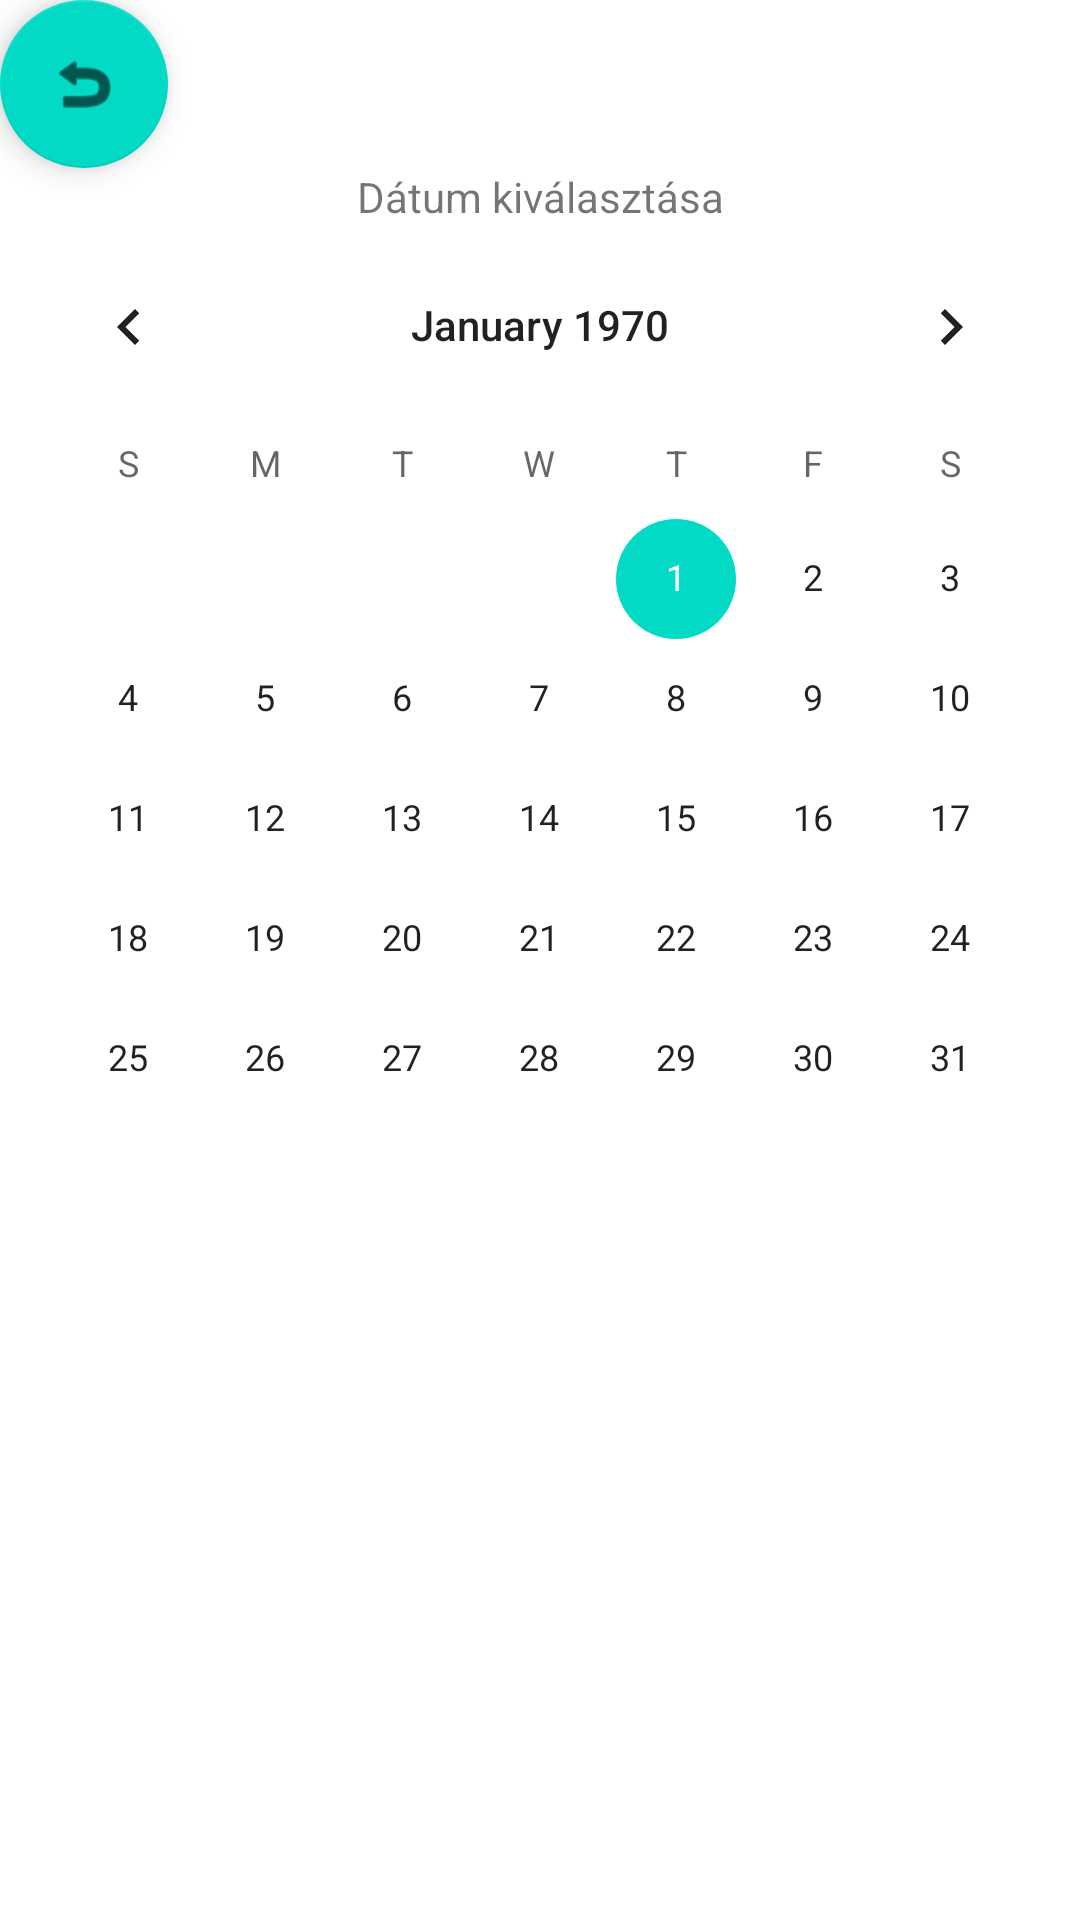

Locate icon controls on the screen. Image size 1080 × 1920, boxes as (x1, y1, x2, y2).
revert: (0, 0, 168, 168)
